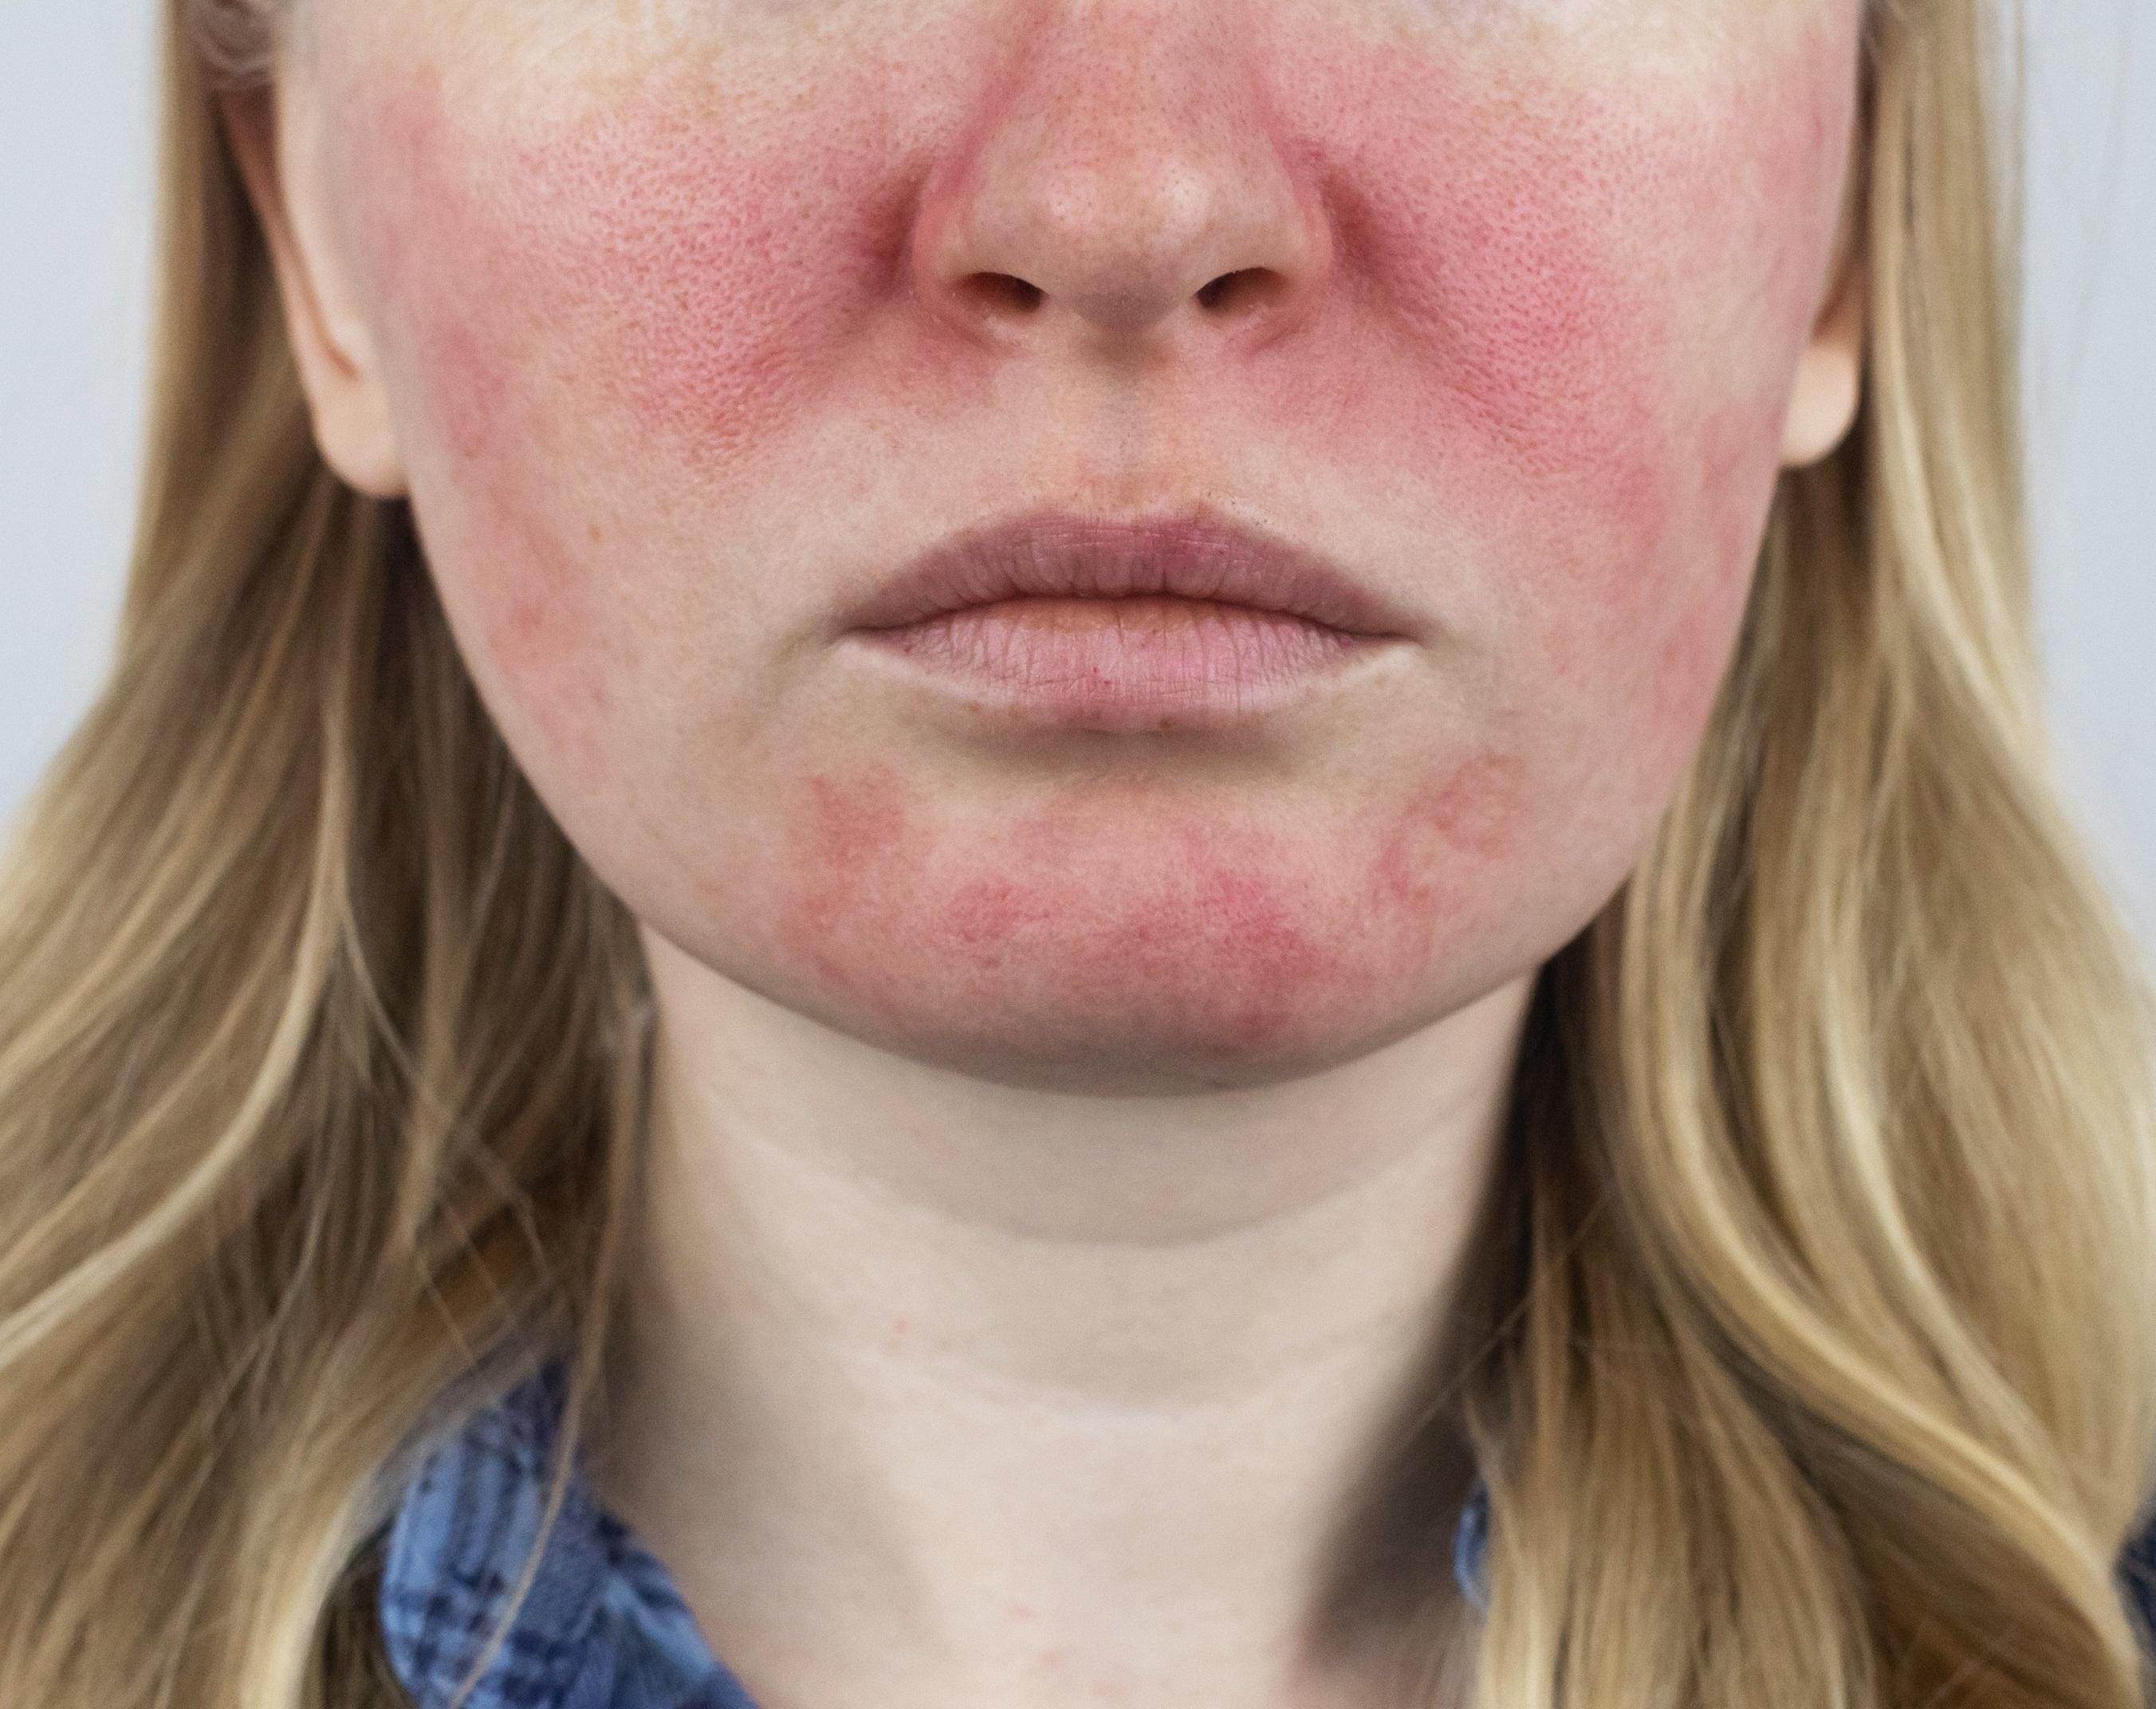Skin-Redness: (770, 742, 1552, 1090), (422, 37, 952, 472), (1295, 47, 1682, 518)
